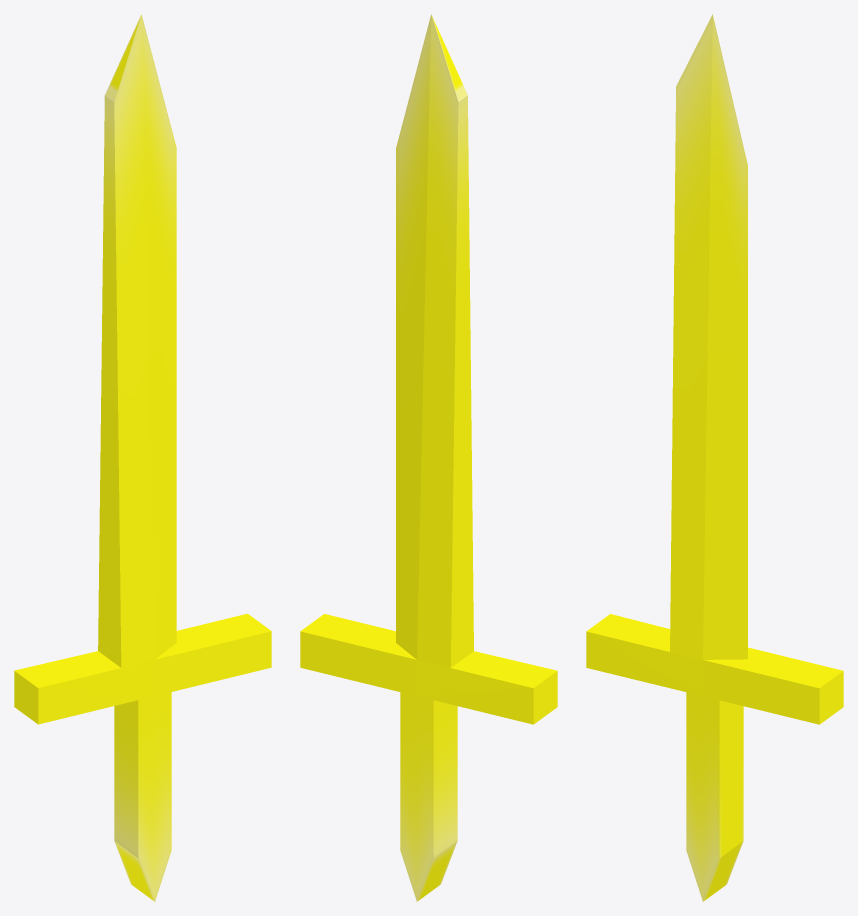
Rendered from scopion.gltf.
3 renders of one model, left to right at view 1: azimuth 30°, elevation 25°; view 2: azimuth 150°, elevation 25°; view 3: azimuth 330°, elevation 25°, orthographic.
Parts seen in each view (by area): view 1: Scopion; view 2: Scopion; view 3: Scopion.
Boxes of the visible parts, bbox=[...] form: Scopion: bbox=[14, 14, 271, 901]; Scopion: bbox=[300, 14, 557, 901]; Scopion: bbox=[586, 14, 843, 901].
Size of the model in its own units: 0.3326 by 1.2 by 0.0594.
Materials: 1 (1 with a texture image).
